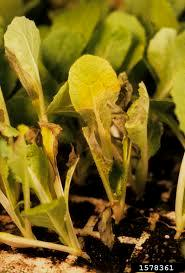Bok-Choy-Diseased: (1, 0, 75, 170), (62, 51, 144, 194)
